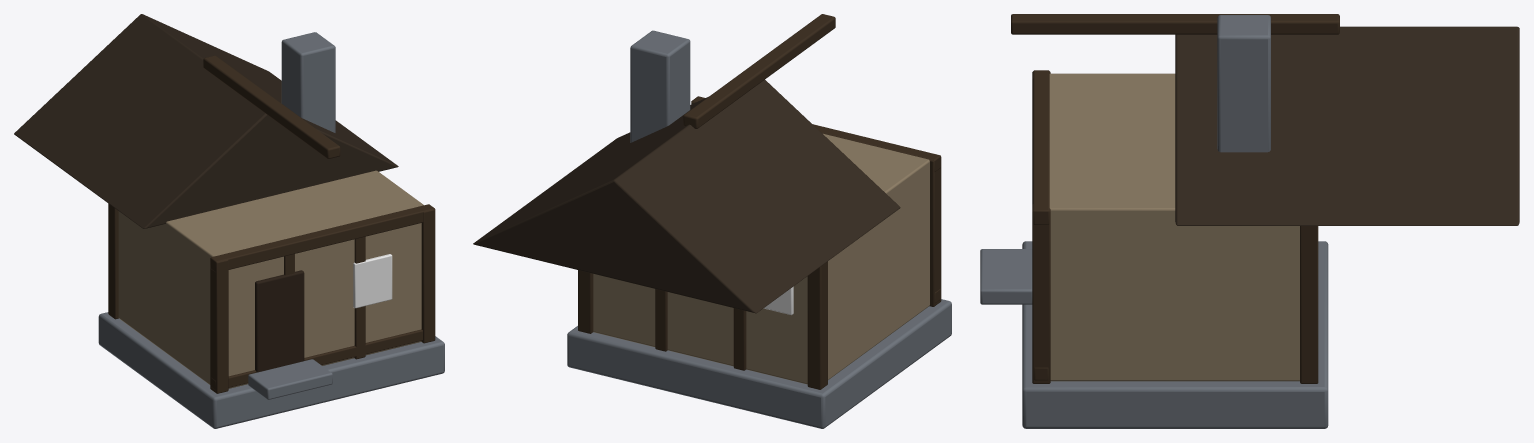
Rendered from BlenderHouse.fbx.
3 views of the same model, side by side, from view 1: azimuth 30°, elevation 25°; view 2: azimuth 150°, elevation 25°; view 3: azimuth 270°, elevation 25° (orthographic). The views are drawn at different scales.
Visible parts, largest first — view 1: Roof, Walls, Joined_Stone, Joined_BeamWood, Door, Joined_WindowGlow; view 2: Roof, Walls, Joined_Stone, Joined_BeamWood, Joined_WindowGlow; view 3: Roof, Walls, Joined_Stone, Joined_BeamWood.
Boxes of the visible parts, x1,y1,x2,y2 form: Roof: (14,14,398,228); Walls: (118,170,423,388); Joined_Stone: (98,32,444,428); Joined_BeamWood: (108,55,435,393); Door: (255,270,304,372); Joined_WindowGlow: (353,254,392,308); Roof: (473,80,900,313); Walls: (593,133,929,384); Joined_Stone: (567,30,951,428); Joined_BeamWood: (578,14,941,389); Joined_WindowGlow: (763,286,793,314); Roof: (1175,26,1519,225); Walls: (1049,73,1299,381); Joined_Stone: (980,15,1328,428); Joined_BeamWood: (1011,14,1339,383).
Size of the model in its own units: 5.07 by 5.35 by 7.05.
